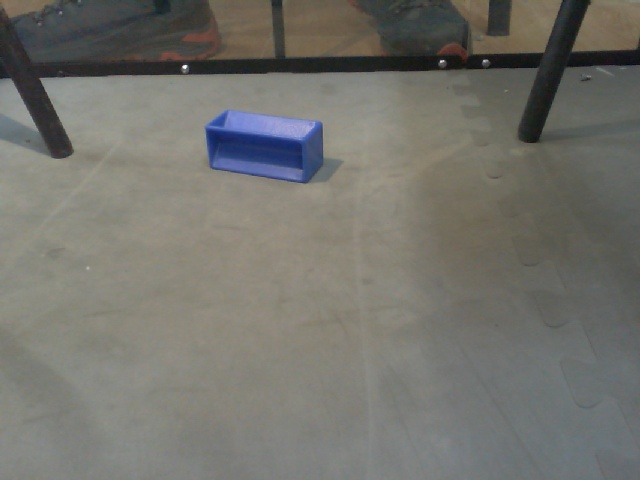BlueSample: (198, 106, 331, 186)
